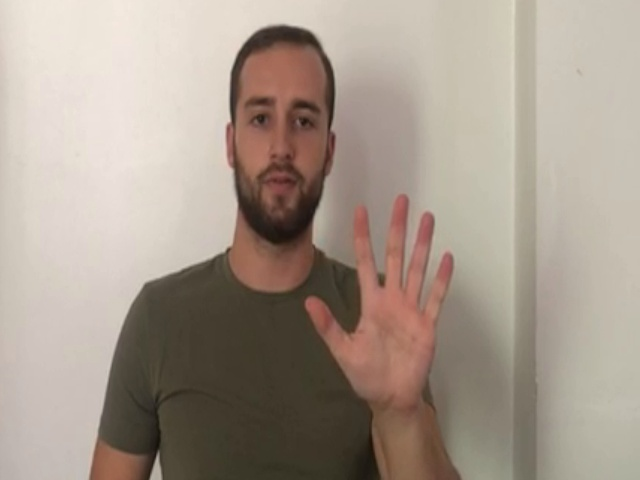Pet i Sedumnaeset: (299, 191, 460, 417)
